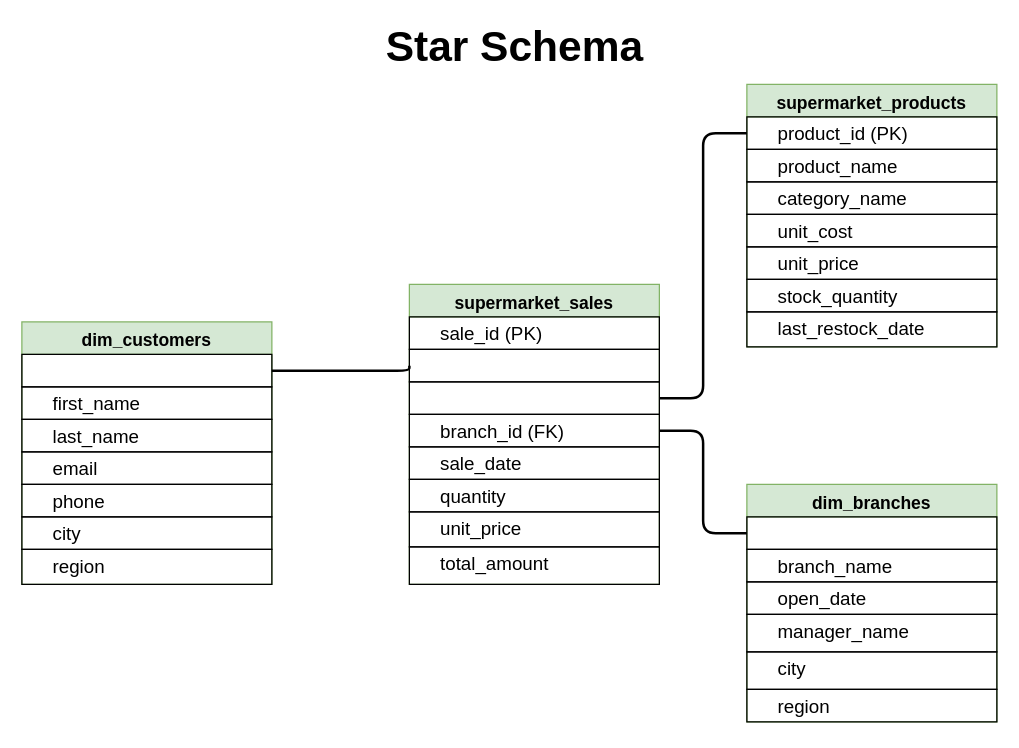
The diagram is 1019 pixels wide and 748 high, and some of its shapes have lost their labels. Here are the shapes that lost their labels. From the top down, the centre of each, then its label:
point 146,370: customer_id (PK)
point 533,365: customer_id (FK)
point 533,397: product_id (FK)
point 871,532: branch_id (PK)
